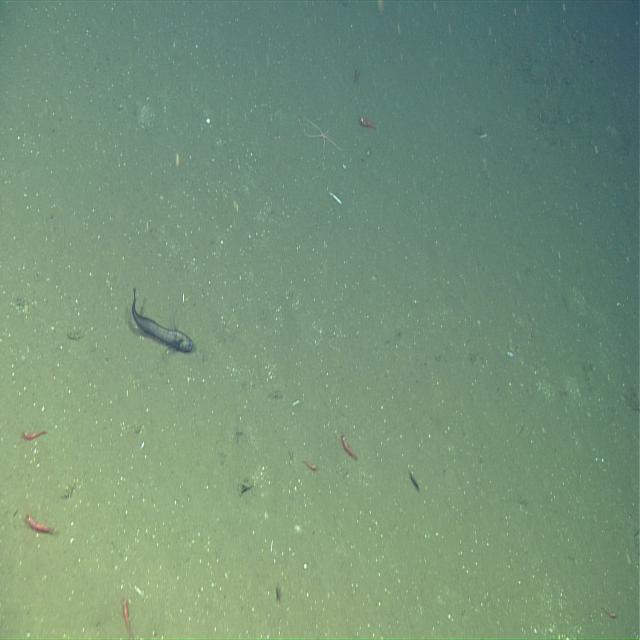Brittle Star: (299, 110, 344, 164)
